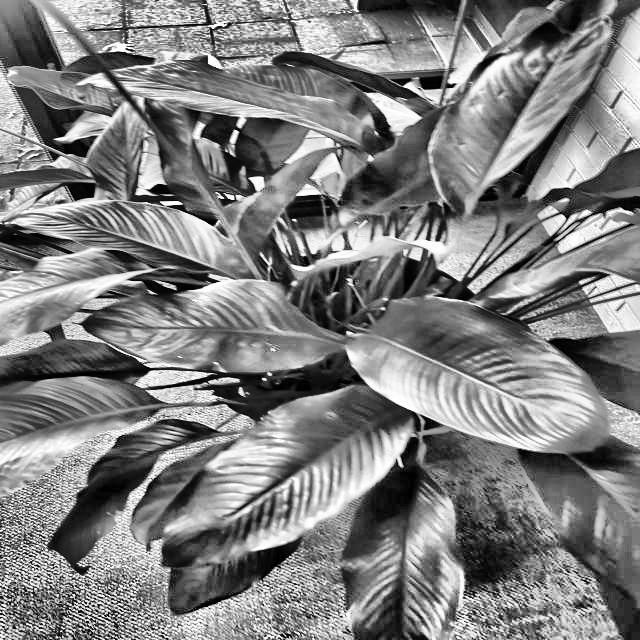plants: (67, 91, 640, 543)
